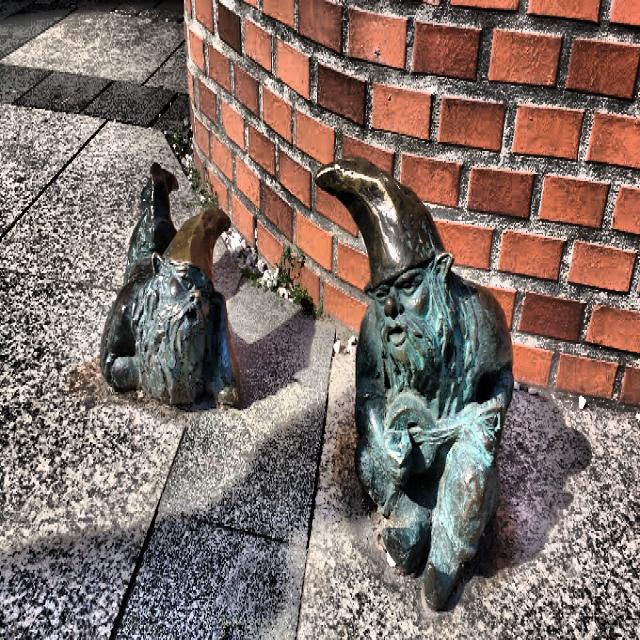Grajek_i_Meloman: (99, 156, 514, 612)
